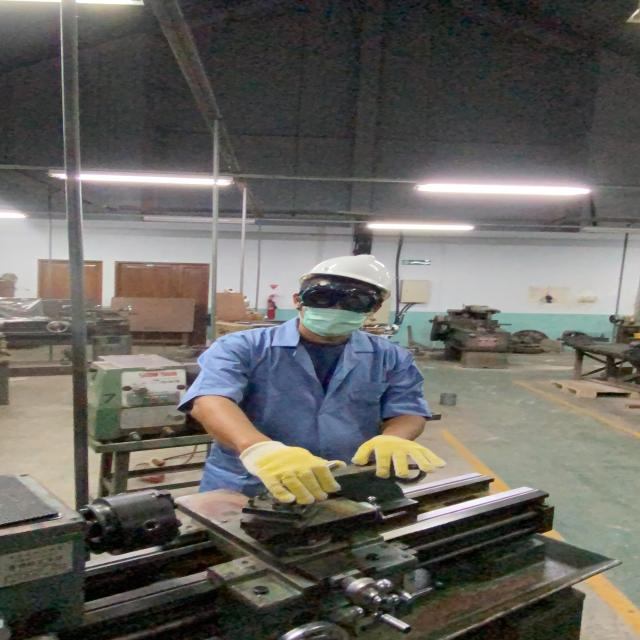face_mask: (292, 284, 384, 336)
glasses: (291, 282, 385, 310)
hand_glove: (237, 440, 346, 504), (350, 432, 452, 480)
head_helmet: (293, 250, 399, 289)
